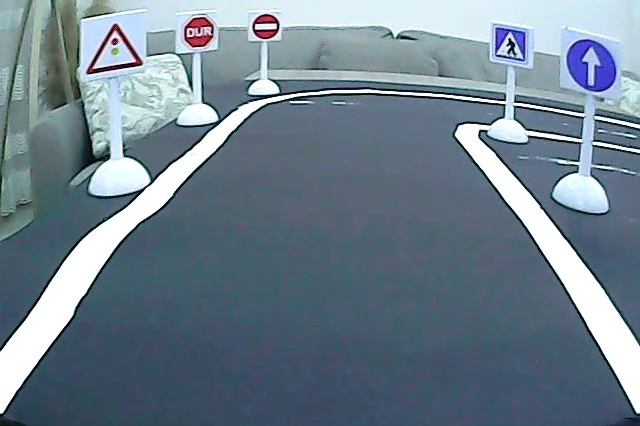do not enter: (251, 12, 281, 41)
pedestrian crossing: (491, 24, 529, 66)
red light: (83, 18, 145, 75)
stop sign: (181, 16, 218, 50)
